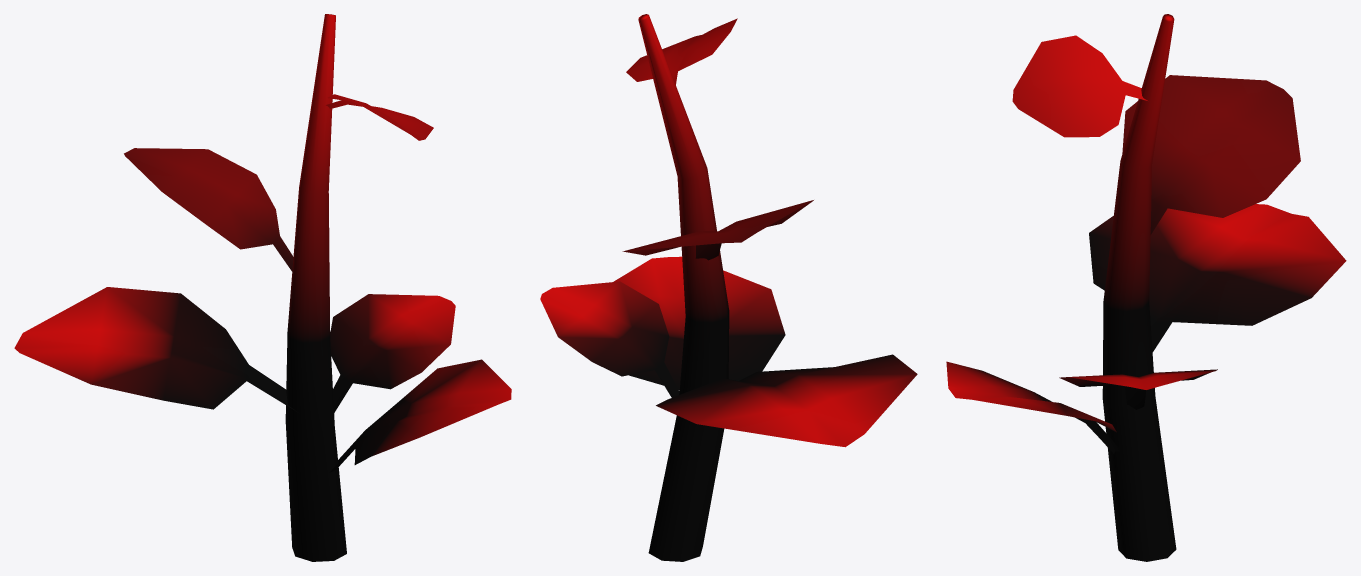
Rendered from SM_Branch_04_LOD0.fbx.
3 views of the same model, side by side, from view 1: azimuth 30°, elevation 25°; view 2: azimuth 150°, elevation 25°; view 3: azimuth 270°, elevation 25° (orthographic). The views are drawn at different scales.
Parts seen in each view (by area): view 1: Branch_04_LOD0; view 2: Branch_04_LOD0; view 3: Branch_04_LOD0.
Part boxes in pixels (x1,y1,x2,y2): Branch_04_LOD0: (14, 14, 511, 561); Branch_04_LOD0: (540, 14, 917, 561); Branch_04_LOD0: (946, 14, 1346, 561).
Size of the model in its own units: 60.05 by 80.63 by 53.71.
